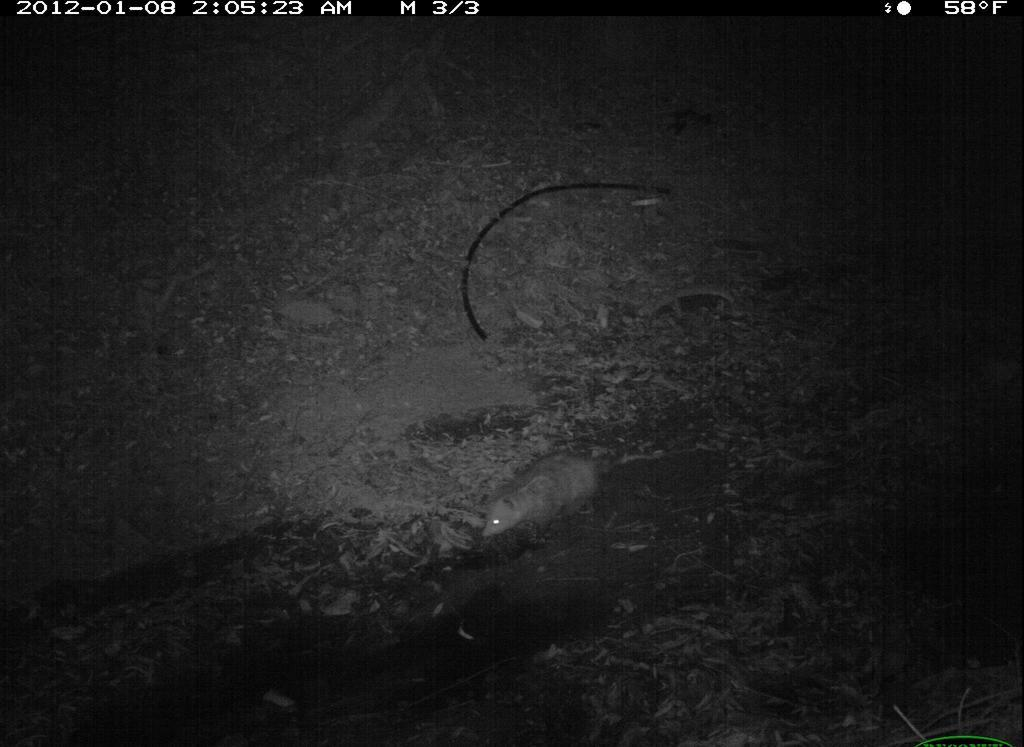opossum: (454, 437, 644, 553)
